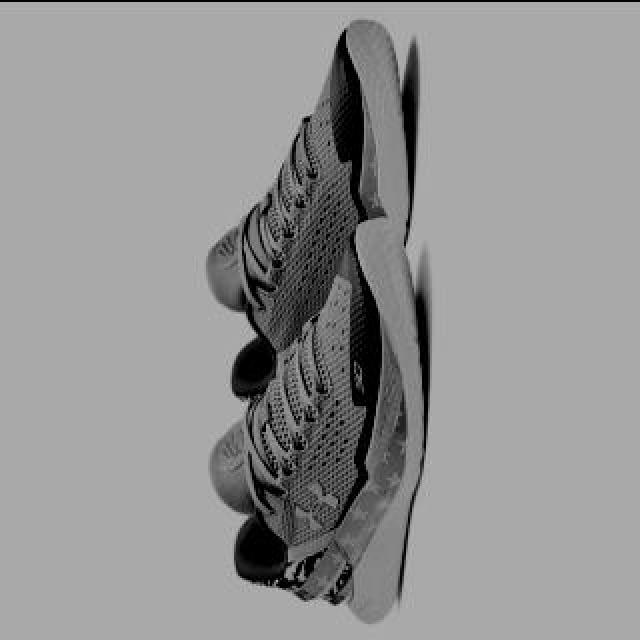shoe: (208, 216, 428, 622), (206, 16, 410, 420)
